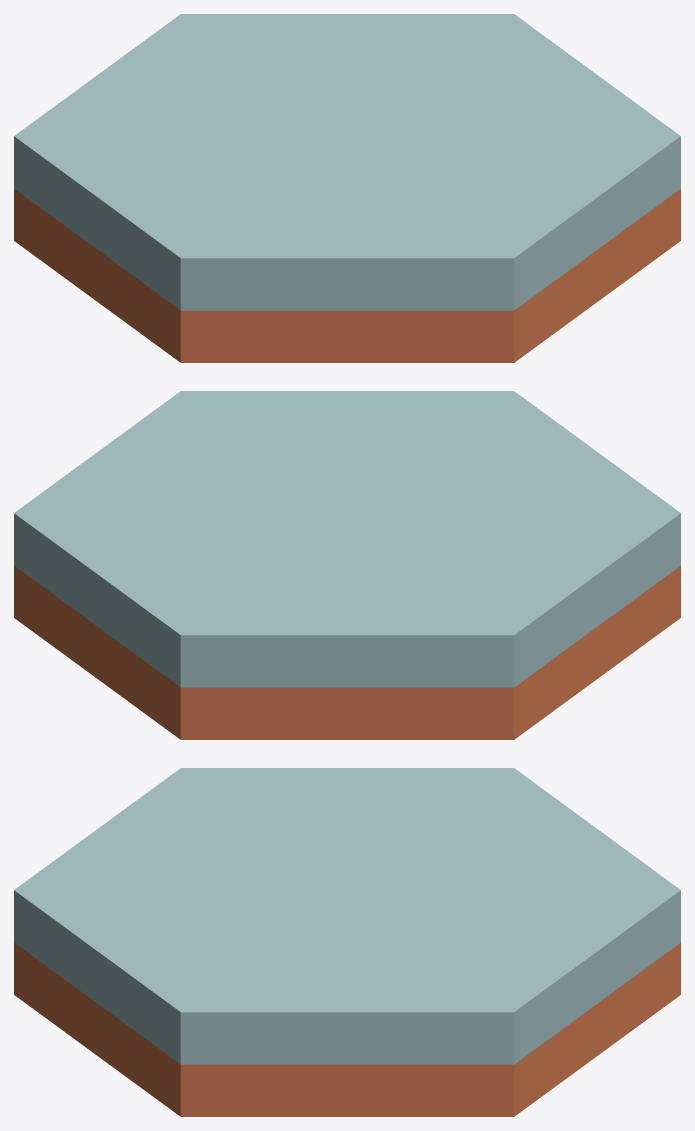
Rendered from stone.fbx.
3 renders of one model, top to bottom at view 1: azimuth 30°, elevation 25°; view 2: azimuth 150°, elevation 25°; view 3: azimuth 270°, elevation 25°, orthographic.
Parts seen in each view (by area): view 1: stone; view 2: stone; view 3: stone.
Part boxes in pixels (x1,y1,x2,y2): stone: (14,14,680,362); stone: (14,391,680,739); stone: (14,768,680,1116).
Bounding box in the file's own units: 10 × 2 × 11.55.
